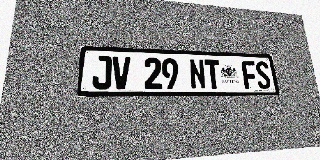2: (144, 57, 162, 89)
9: (161, 58, 179, 89)
F: (241, 61, 258, 89)
J: (92, 55, 112, 89)
N: (189, 59, 206, 89)
S: (255, 61, 272, 89)
T: (204, 59, 222, 89)
V: (112, 56, 130, 89)
